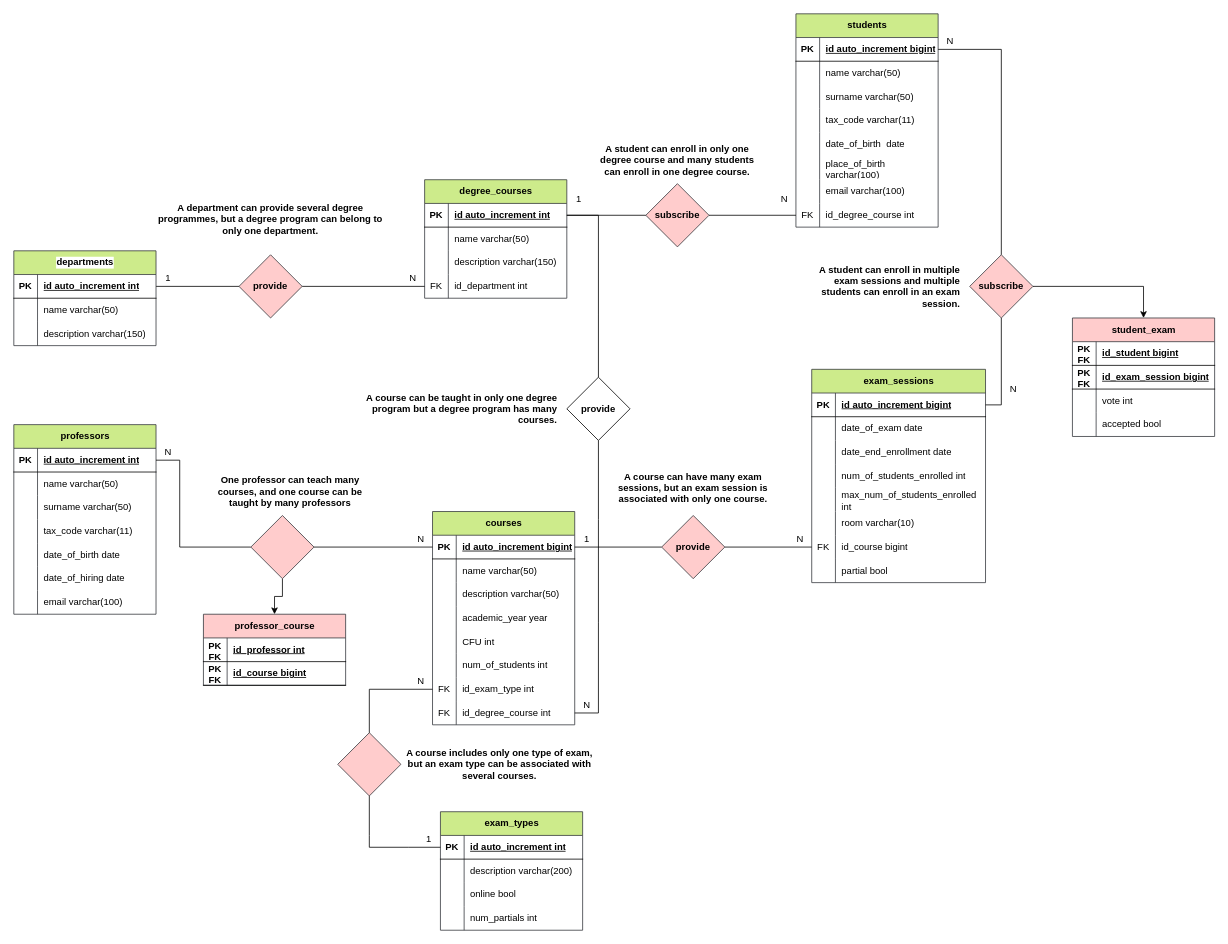
This 1228x944 diagram has some shape labels left out. The shapes that lost their labels are listed below. From the top down, each one's centre as x and y in pixels, then its label:
the point at 282,547: hold
the point at 369,764: expect
